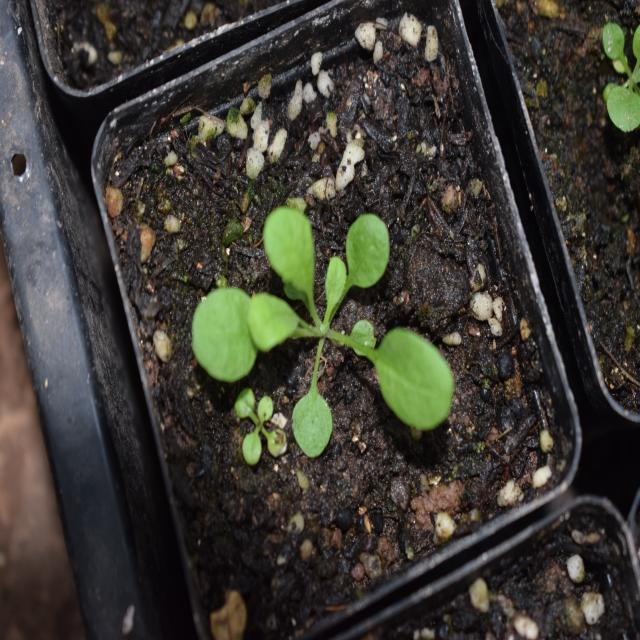Shepherd_Purse: (195, 204, 448, 473)
